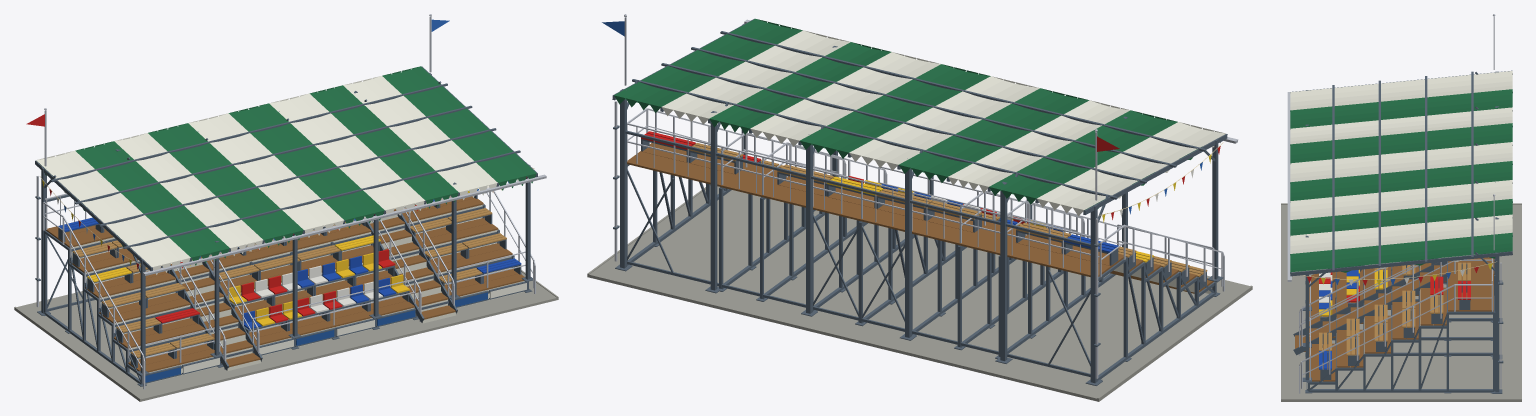
The model's file is grandstand.glb.
3 views of the same model, side by side, from view 1: azimuth 30°, elevation 25°; view 2: azimuth 150°, elevation 25°; view 3: azimuth 270°, elevation 25° (orthographic). The views are drawn at different scales.
Visible parts, largest first — view 1: grandstand_mesh; view 2: grandstand_mesh; view 3: grandstand_mesh.
Boxes of the visible parts, <box> form: grandstand_mesh: <box>14,14,558,401</box>; grandstand_mesh: <box>587,14,1252,401</box>; grandstand_mesh: <box>1281,14,1521,401</box>.
Size of the model in its own units: 15.2 by 7.14 by 7.8.
